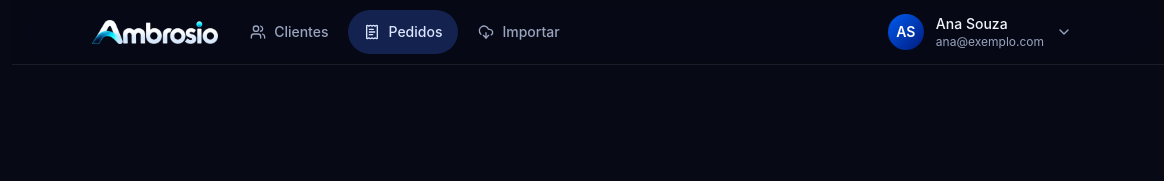
Scenario: AppHeader › "Configurações" navega e fecha o menu
Click the button with aria-label "Conta".
click(984, 32)  # box [884,10,1084,54]
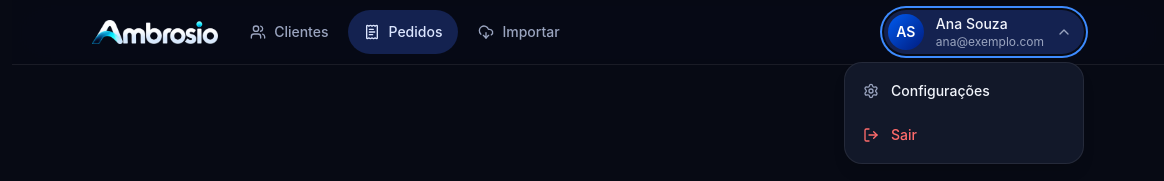
Click the link "Configurações".
click(926, 90)  # box [863,82,990,99]
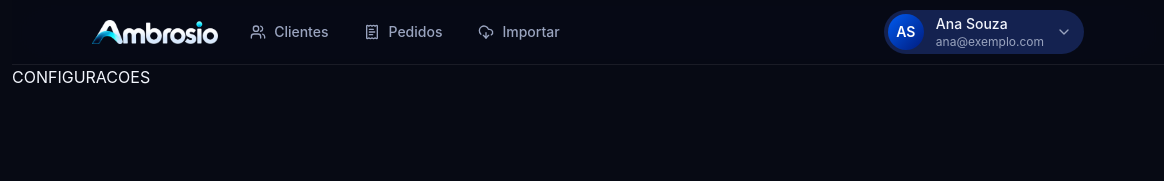
Check: the text "CONFIGURACOES" is shown, box [12,67,150,87]
Check: the button with aria-label "Conta" is collapsed, box [884,10,1084,54]
